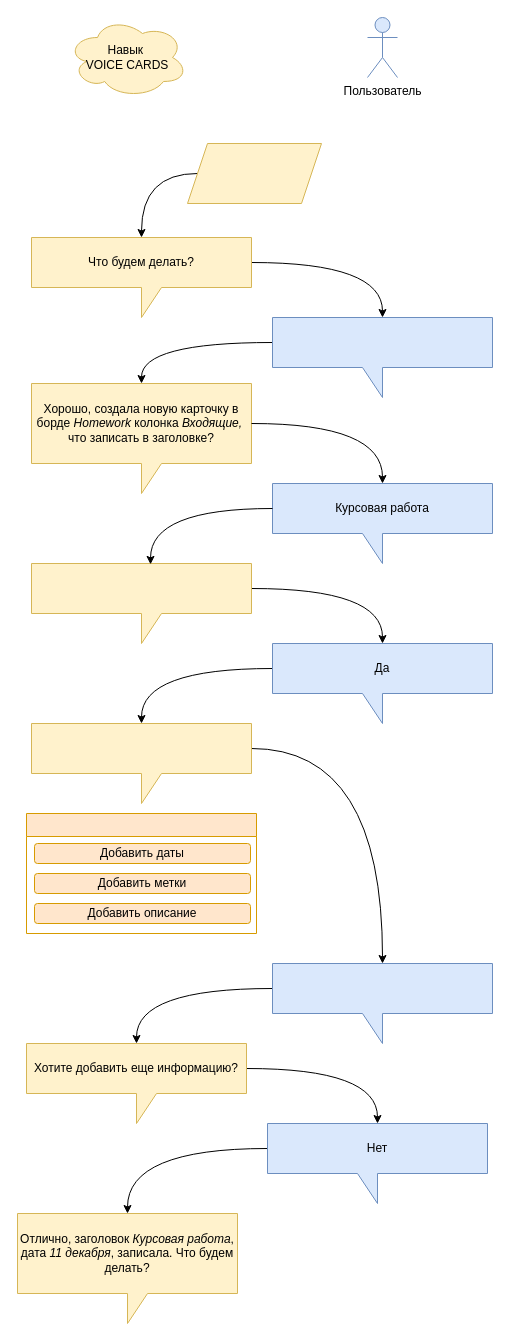
The diagram is 510 pixels wide and 1341 high, and some of its shapes have lost their labels. Here are the shapes that lost their labels. From the top down, the centre of each, then its label:
At point 254,173: "Навык запущен, пользователь авторизован".
At point 382,357: "Создать новую карточку в борде Homework колонка Входящие".
At point 141,603: "Хотите добавить информацию?".
At point 141,763: "Что добавим?".
At point 141,873: "Подсказки".
At point 382,1003: "Добавить дату 11 декабря".
